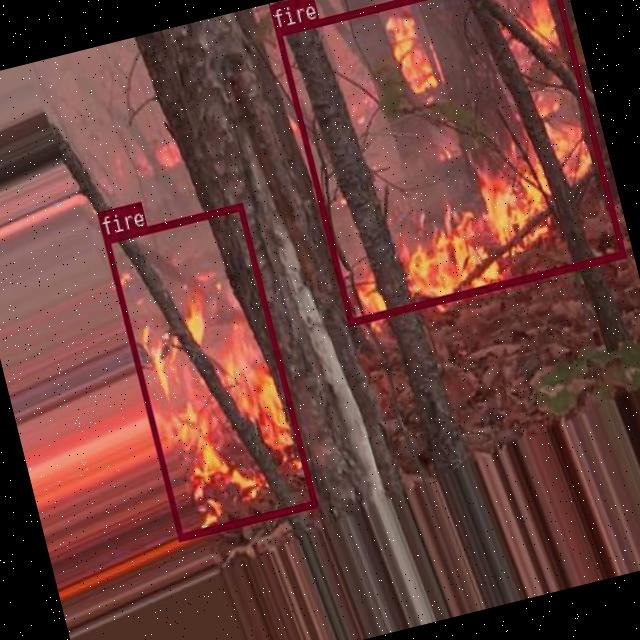fire: (274, 0, 625, 324), (101, 202, 316, 540)
